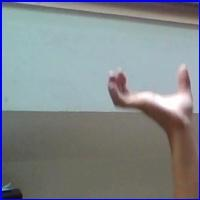space: (98, 62, 199, 129)
